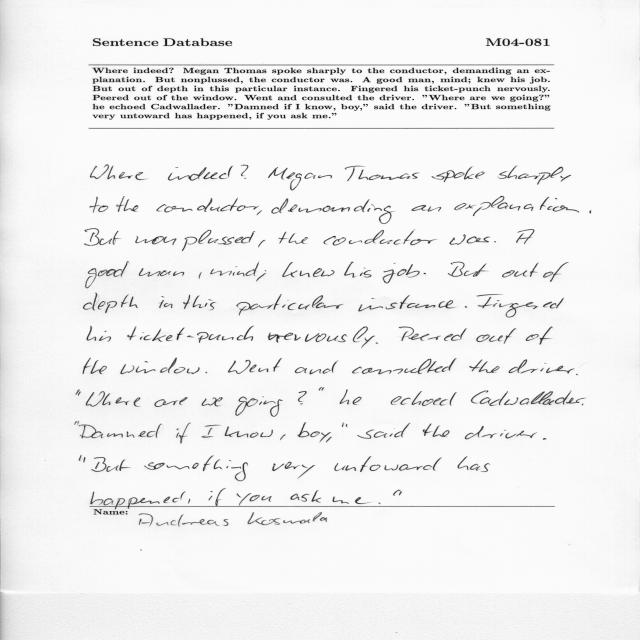word: (91, 489, 402, 507), (91, 490, 402, 506), (91, 491, 402, 506), (271, 198, 394, 224), (91, 498, 402, 507), (144, 456, 248, 481), (136, 230, 256, 251), (454, 196, 579, 216), (267, 327, 375, 349), (237, 294, 344, 316), (128, 326, 254, 343), (477, 294, 564, 317), (471, 390, 586, 406), (324, 230, 437, 246), (352, 358, 457, 375), (334, 456, 442, 472), (268, 167, 332, 191), (358, 295, 454, 311), (156, 198, 259, 212), (498, 166, 571, 185), (91, 492, 190, 506), (120, 358, 200, 374), (79, 424, 162, 438), (86, 262, 129, 289), (345, 166, 419, 181), (83, 293, 138, 313), (235, 396, 283, 417), (509, 359, 575, 374), (391, 391, 457, 406), (168, 166, 233, 181), (399, 327, 467, 341), (465, 426, 537, 439), (228, 358, 282, 374), (86, 391, 140, 407), (357, 423, 411, 439), (432, 167, 485, 183), (90, 165, 146, 180), (282, 262, 335, 277), (383, 263, 420, 283), (272, 462, 315, 479), (210, 262, 260, 276), (297, 422, 332, 442), (477, 328, 517, 344), (295, 361, 338, 375), (85, 229, 120, 246), (224, 426, 273, 438), (448, 262, 487, 277), (91, 457, 129, 472), (502, 263, 539, 278), (458, 456, 491, 472), (543, 262, 569, 282), (183, 295, 216, 310), (526, 327, 553, 345), (450, 234, 491, 245), (344, 262, 372, 278), (139, 268, 184, 277), (469, 360, 500, 373), (83, 358, 107, 374), (278, 232, 308, 244), (87, 326, 111, 341), (117, 196, 139, 212), (340, 389, 362, 405), (423, 424, 450, 437), (154, 397, 188, 407), (177, 423, 191, 444), (90, 197, 108, 213), (516, 229, 534, 244), (201, 425, 220, 438), (202, 398, 223, 407), (412, 205, 441, 211), (159, 296, 173, 308), (256, 270, 266, 282), (298, 391, 307, 404), (241, 164, 248, 179), (258, 240, 265, 248), (80, 455, 86, 463), (393, 490, 401, 496), (280, 435, 286, 441), (76, 389, 81, 396), (257, 211, 262, 216), (319, 387, 325, 391), (199, 272, 202, 279), (75, 421, 79, 425), (399, 491, 402, 496), (342, 422, 344, 427), (590, 210, 592, 214), (346, 424, 348, 427), (543, 438, 546, 440), (494, 241, 496, 243), (465, 306, 467, 308), (376, 342, 378, 344), (582, 404, 584, 406), (424, 273, 426, 274), (206, 372, 208, 373), (576, 374, 578, 375)
